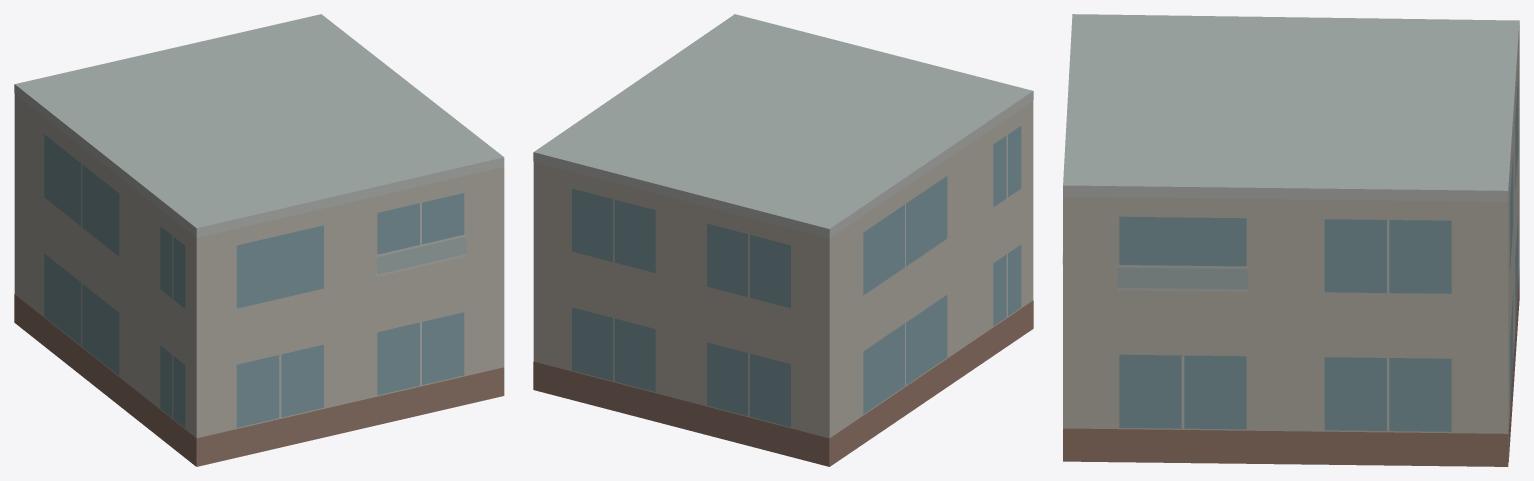
Rendered from survey-upis-32939889.glb.
3 views of the same model, side by side, from view 1: azimuth 30°, elevation 25°; view 2: azimuth 150°, elevation 25°; view 3: azimuth 270°, elevation 25° (orthographic). The views are drawn at different scales.
Visible parts, largest first — view 1: survey-upis-32939889.tmp; view 2: survey-upis-32939889.tmp; view 3: survey-upis-32939889.tmp.
Part boxes in pixels (x1,y1,x2,y2): survey-upis-32939889.tmp: [14, 14, 504, 466]; survey-upis-32939889.tmp: [533, 14, 1033, 466]; survey-upis-32939889.tmp: [1062, 14, 1519, 466].
Bounding box in the file's own units: 8.39 × 6.1 × 9.17.
